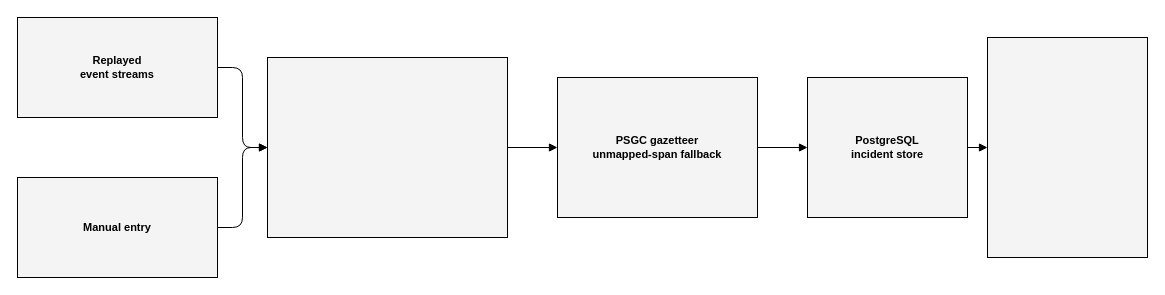
Some shapes in this 1165 by 295 pixel diagram are drawn without their labels. The shapes that lost their labels are listed below. From the top down, each one's centre as x and y in pixels, then its label:
the point at 387,147: FastAPI service single-pass inference: entities, intent, urgency
the point at 1067,147: Dashboard New, Acknowledged, Responding, Resolved
